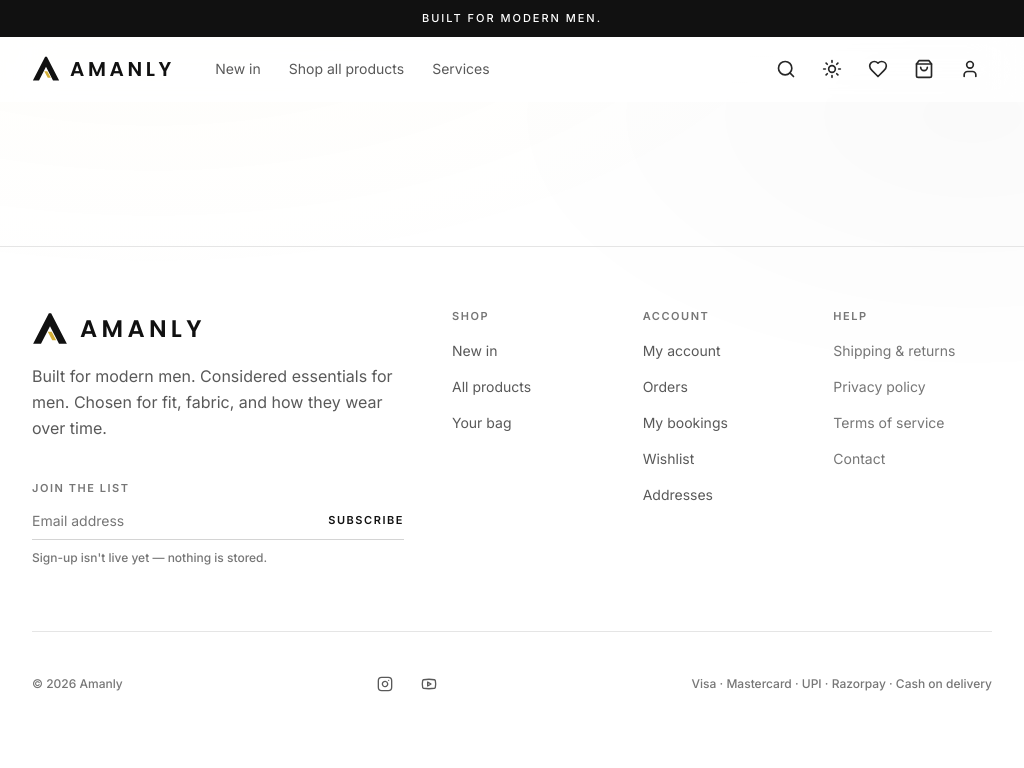
Scenario: Storefront account menu › offers a shopper no way into any console
The width and height of the screenshot is (1024, 768).
Click the button named "Account menu": (970, 68) [948,46,992,90]
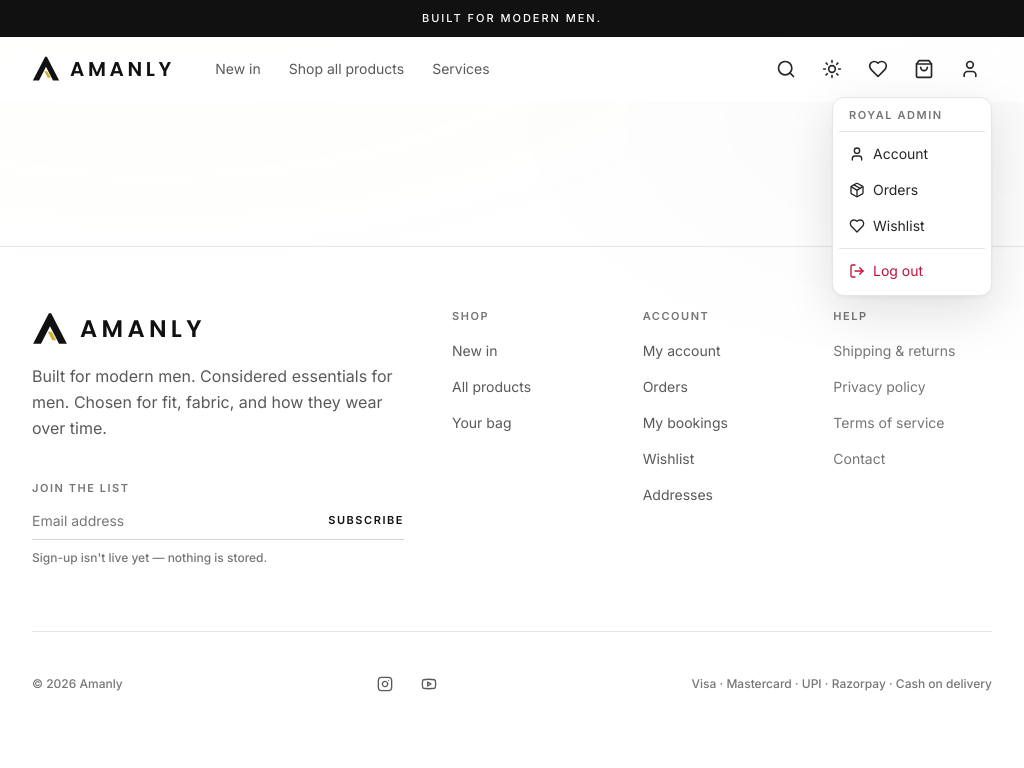
Expected: the menu item "Account" is shown, [849,145,928,162]
